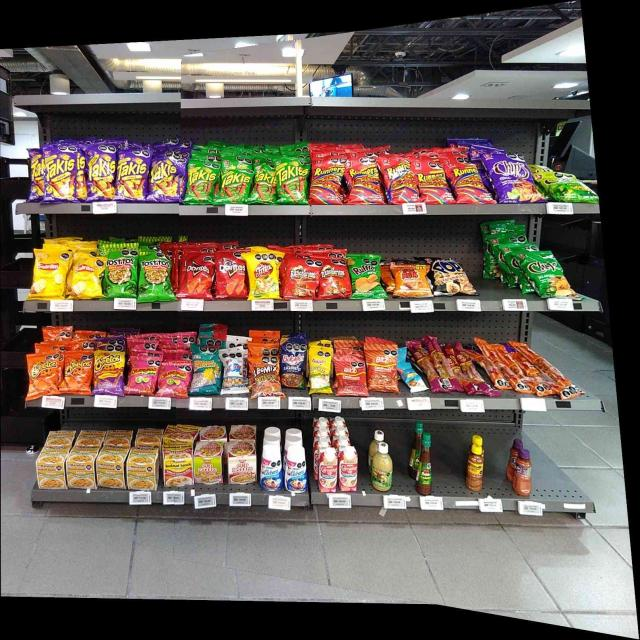bitzAlmendras: (401, 364, 422, 392)
bitzEnchilado90: (368, 346, 397, 390), (337, 353, 365, 395)
bitzEnchilado95: (485, 342, 567, 390)
bitzHabanero: (437, 342, 450, 390), (452, 350, 465, 393), (425, 339, 435, 391), (467, 359, 481, 394)
bokadosCacahuates: (282, 339, 303, 387)
botaneraChilito: (466, 445, 483, 490)
cheetosFlaminHot: (95, 349, 121, 394)
cheetosOriginal: (64, 352, 90, 393), (30, 355, 57, 393)
chipsFuego: (492, 154, 534, 200)
chipsJalapeno: (529, 252, 568, 298)
chipsPapatinas: (542, 172, 590, 201)
churrumais: (160, 360, 188, 397), (130, 358, 155, 394)
delPrimoSalsa: (372, 442, 392, 492)
doritosNacho: (216, 250, 246, 298), (184, 253, 213, 298)
fritosLimon: (248, 252, 278, 298)
hotNutsOriginal: (393, 263, 429, 297)
leoCacahuates: (223, 349, 243, 394)
leoMix: (250, 355, 280, 397)
maruchanPollo: (127, 448, 158, 488), (67, 447, 96, 488), (38, 448, 66, 490), (99, 447, 125, 490)
maruchanRes: (163, 445, 193, 485)
nestleCarnation: (339, 446, 357, 492), (318, 447, 336, 492)
nestleLechera: (284, 446, 307, 492), (260, 444, 282, 491)
nissinCamaron: (194, 442, 223, 484)
nissinRes: (227, 442, 257, 483)
popKarameladas: (431, 256, 470, 295)
rancheritos: (284, 257, 316, 298), (320, 256, 349, 297)
rufflesQueso: (352, 256, 382, 298)
runners: (346, 157, 379, 203), (310, 158, 340, 204), (452, 160, 484, 202), (384, 158, 414, 201), (419, 161, 448, 203)
sabritasOriginal: (34, 250, 66, 298), (73, 255, 102, 298)
salsaBufalo: (416, 434, 432, 495)
semillasCalabaza: (309, 347, 330, 393)
semillasGirasol: (192, 344, 216, 394)
tajinDulce: (513, 449, 531, 495)
takisFuego: (44, 146, 74, 202), (84, 144, 112, 200), (119, 152, 146, 201), (150, 158, 178, 202), (29, 148, 43, 200)
takisOriginal: (278, 158, 305, 204), (220, 160, 248, 202), (188, 160, 214, 202), (252, 162, 276, 204)
tostitos: (106, 250, 135, 298), (139, 255, 172, 297)
